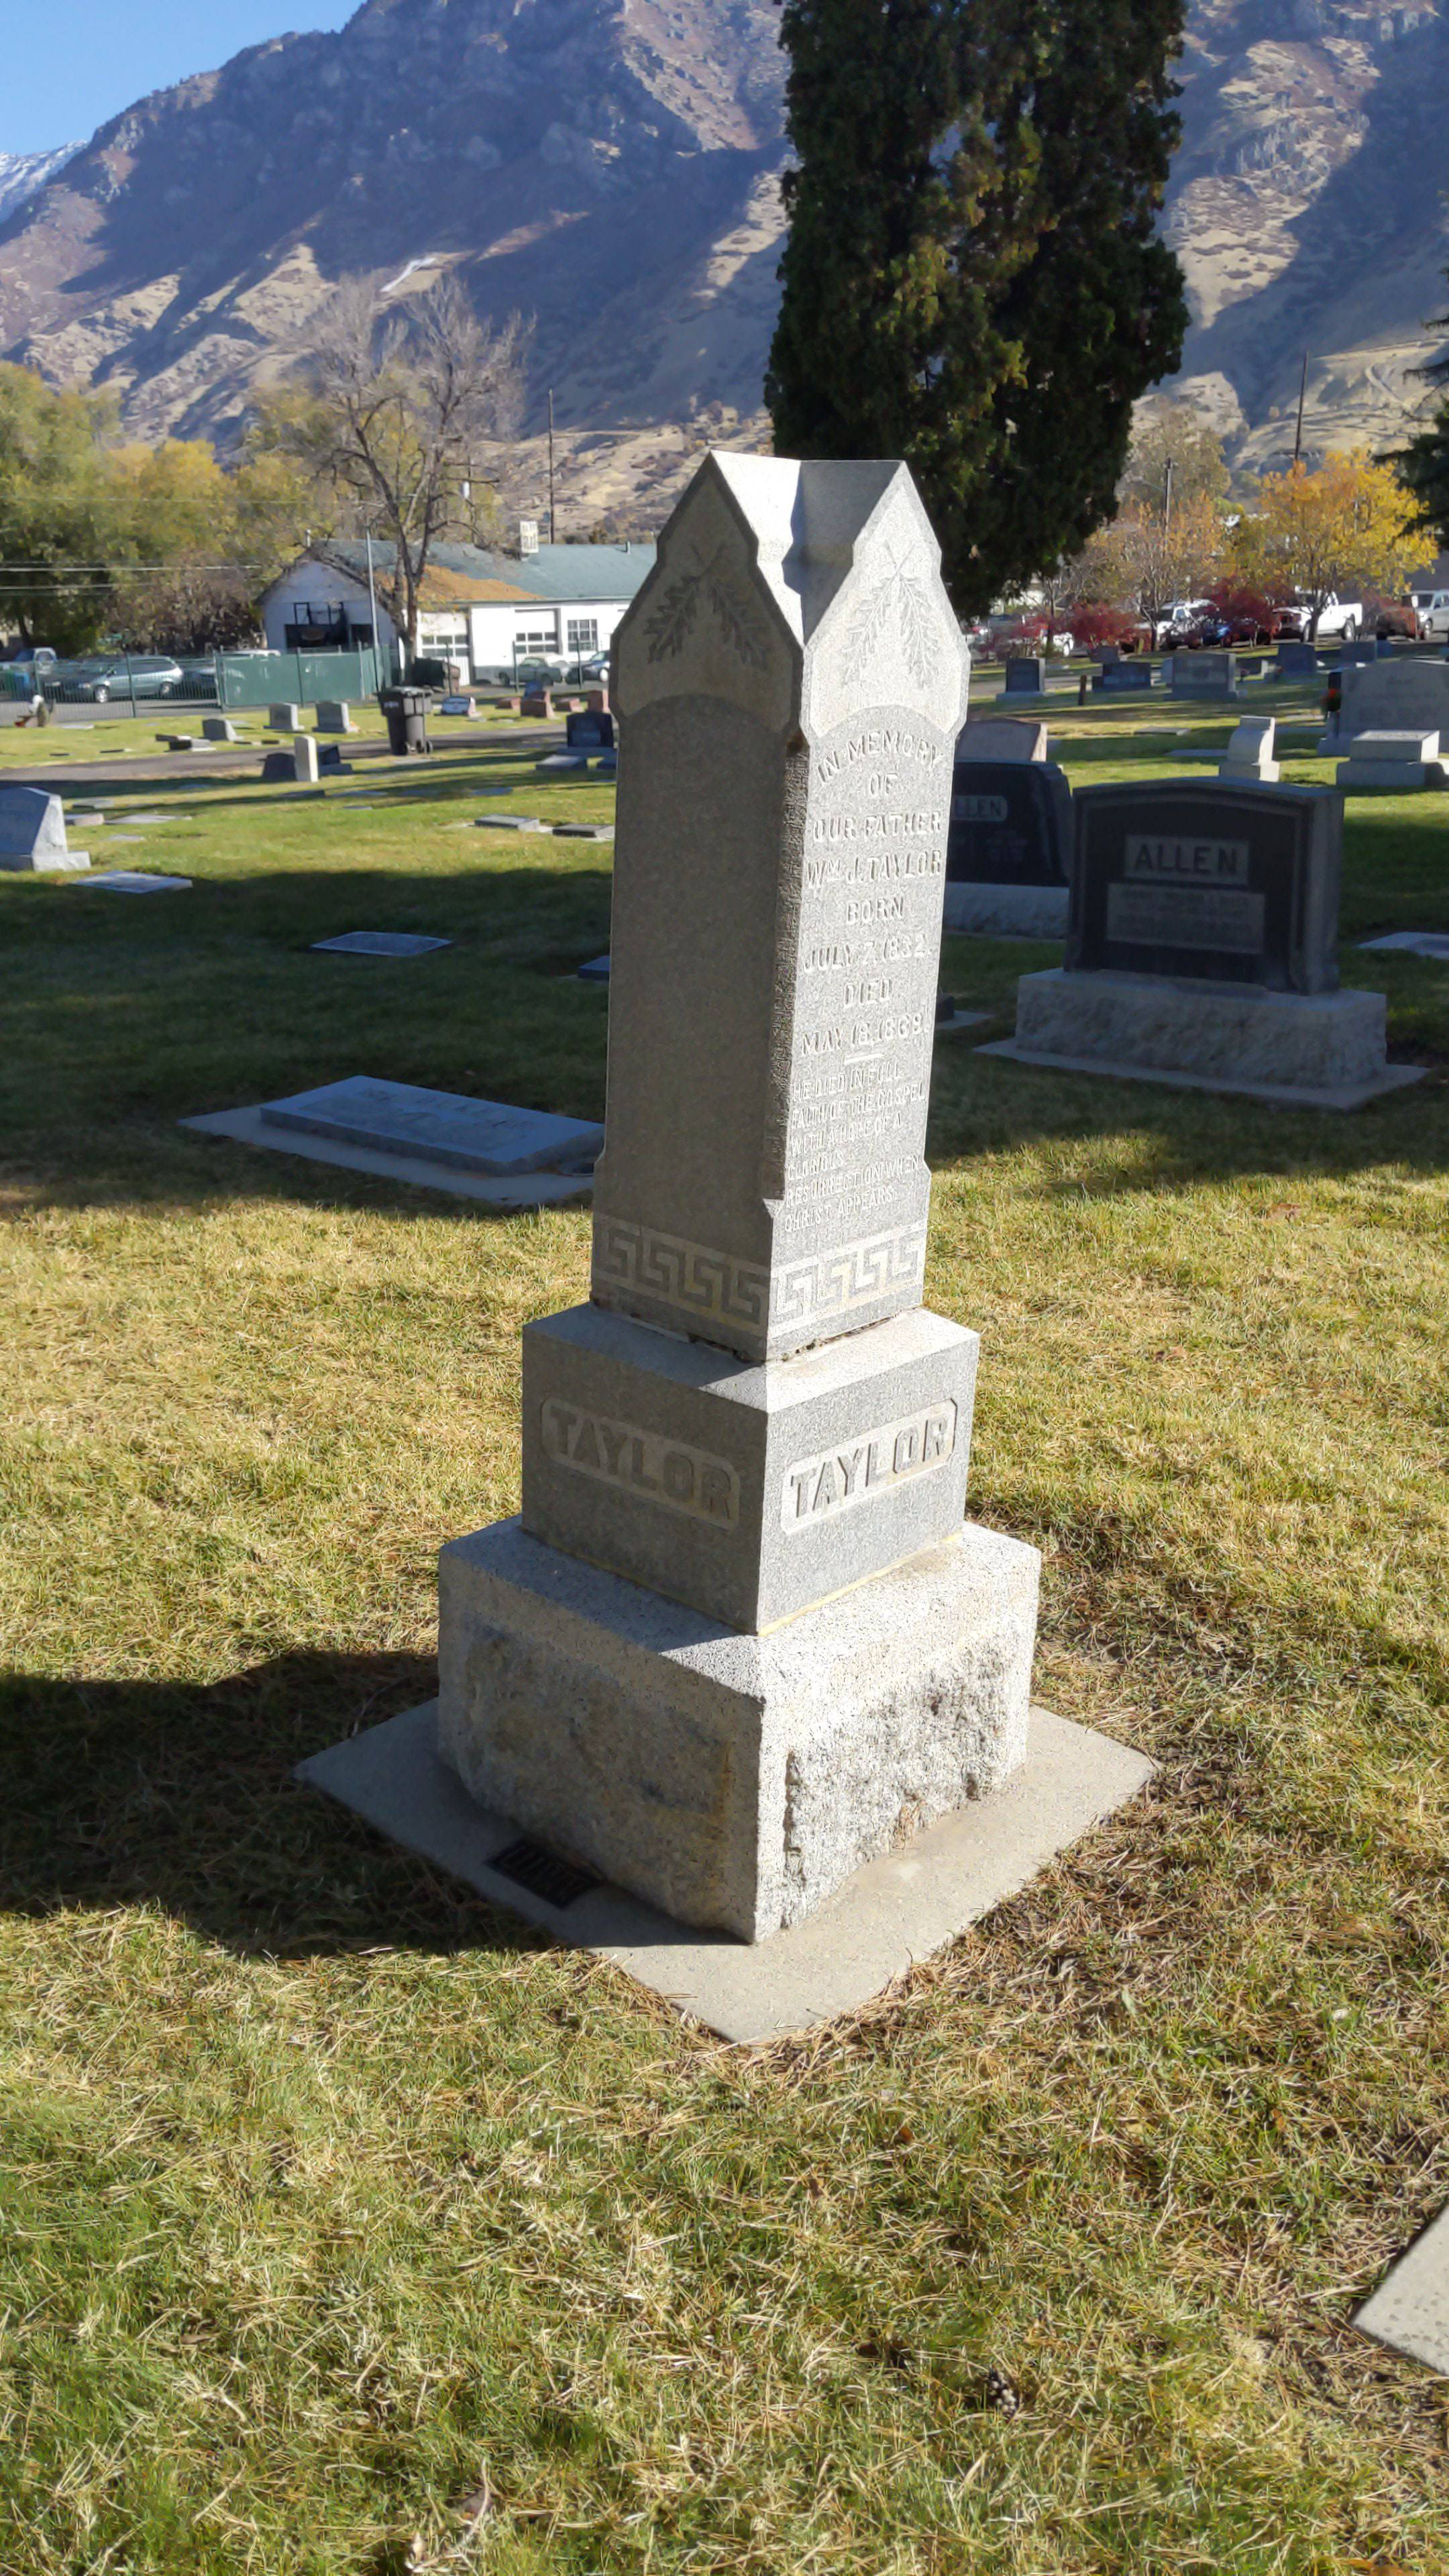obelisk: (518, 451, 968, 1635)
